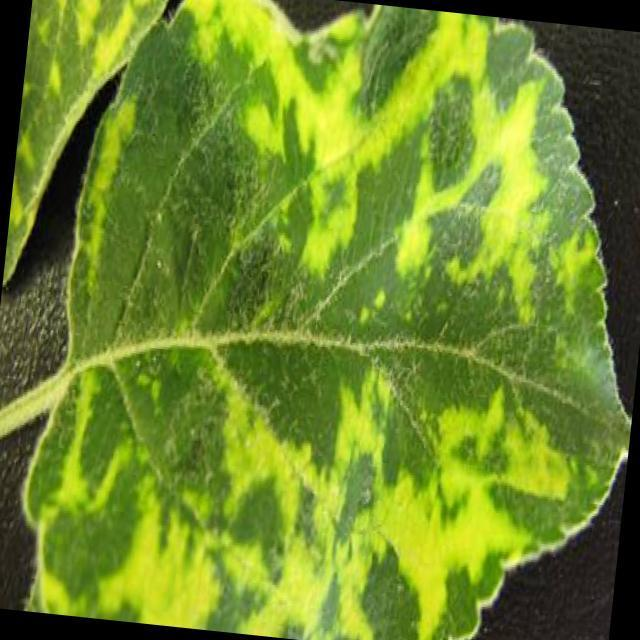Mosaic Virus: (54, 0, 640, 640), (2, 0, 163, 306)
